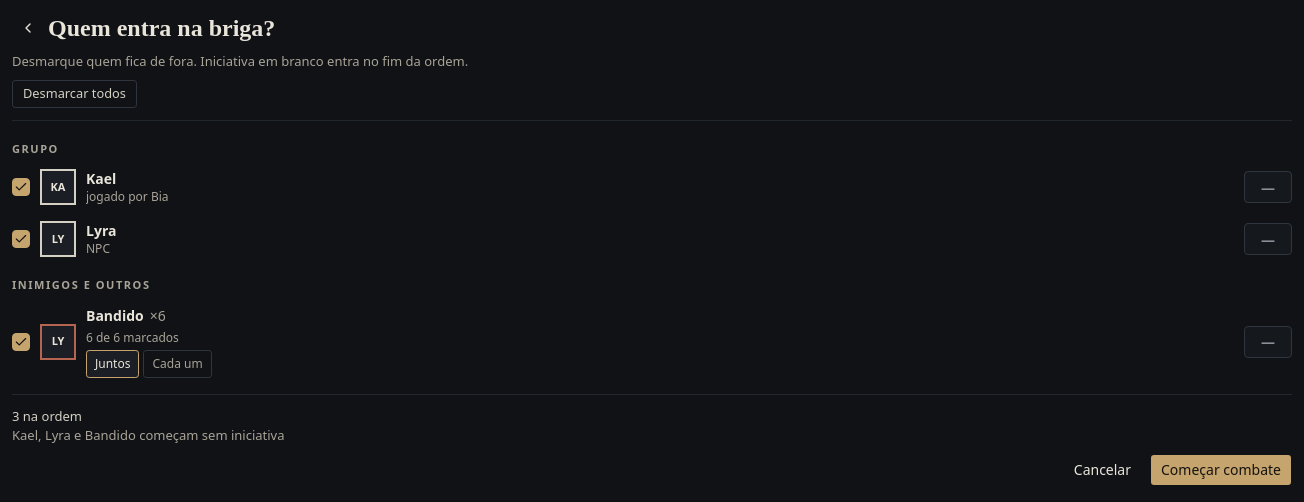
CombatPrep › everyone comes checked: 3 in the order; unchecking Kael leaves 2
Expected: the text "3 na ordem" is shown, [12,406,82,424]
Click the checkbox named "Incluir Kael" at (21, 187), box [12,178,30,196]
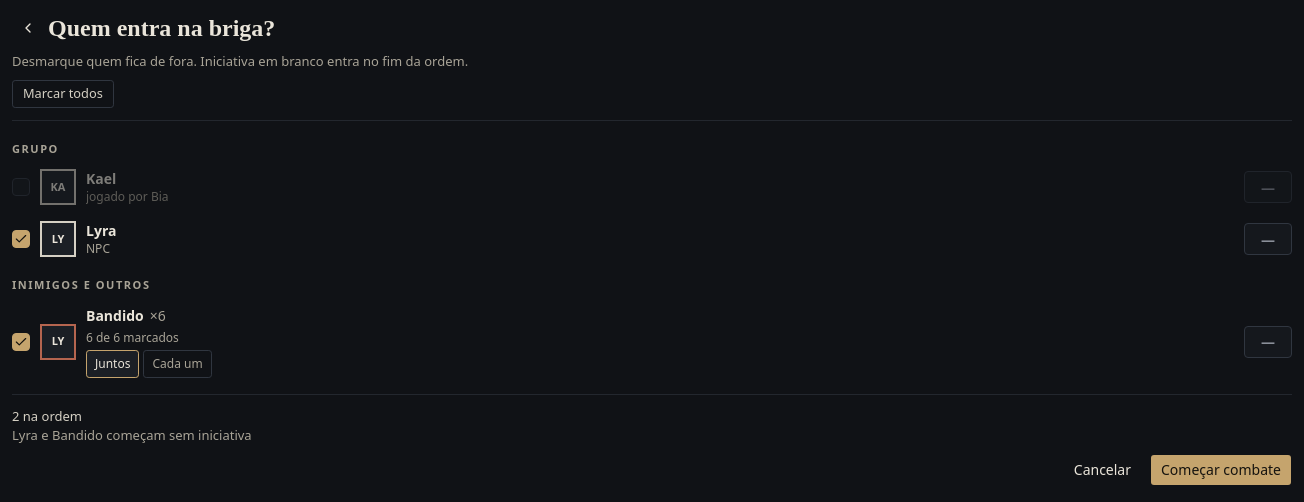
Expected: the text "2 na ordem" is shown, [12,406,82,424]
